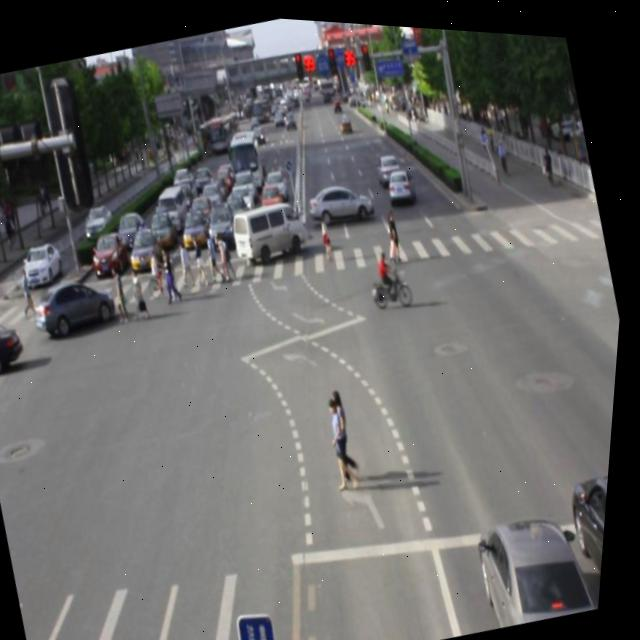car: (472, 494, 607, 628), (565, 447, 616, 601), (30, 265, 125, 344)
